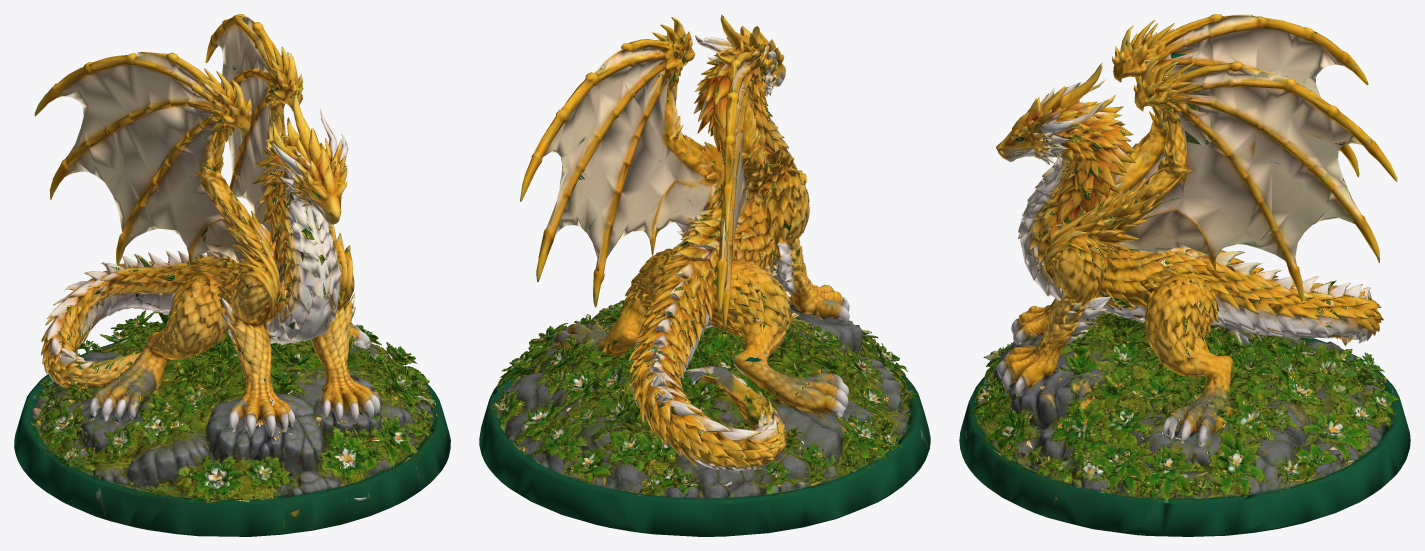
File: goldDragon.glb
3 views of the same model, side by side, from view 1: azimuth 30°, elevation 25°; view 2: azimuth 150°, elevation 25°; view 3: azimuth 270°, elevation 25° (orthographic). The views are drawn at different scales.
Bounding box in the file's own units: 1.89 × 1.89 × 1.9.
Materials: 1 (1 with a texture image).
